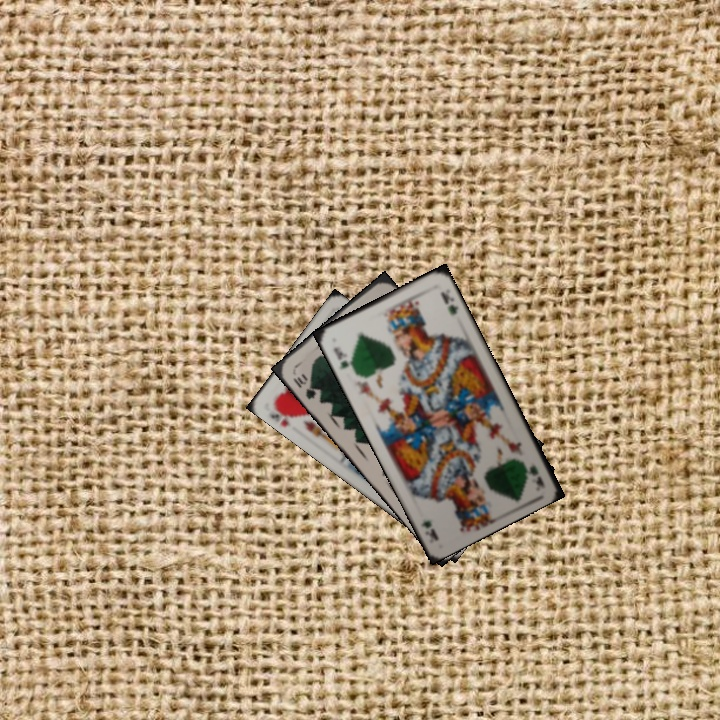G10: (289, 369, 324, 402)
GK: (329, 343, 357, 374), (525, 463, 546, 489)
HK: (266, 406, 295, 429)
